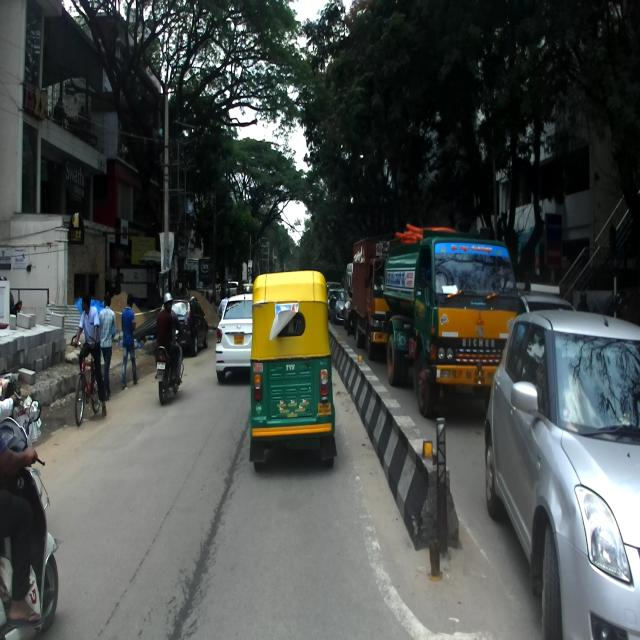auto ahead at: (250, 274, 340, 454)
bicycle ahead at: (67, 335, 110, 439)
car ahead at: (487, 309, 640, 640)
motorcycle ahead at: (147, 334, 191, 419)
truck ahead at: (383, 214, 491, 416)
